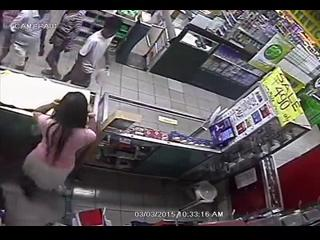Normal: (19, 92, 97, 198), (62, 16, 122, 88), (42, 10, 88, 79), (4, 11, 52, 72)
